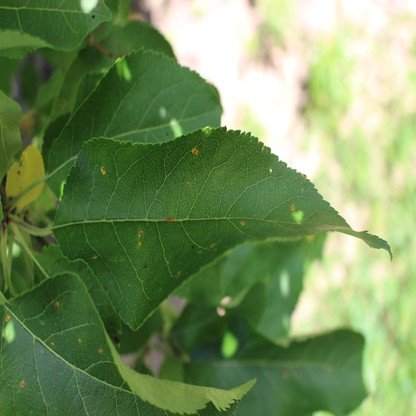rust: (138, 229, 143, 246), (165, 213, 174, 222), (99, 165, 106, 174), (192, 145, 199, 154), (4, 313, 10, 322), (290, 203, 296, 212), (19, 380, 25, 387), (96, 345, 102, 352), (240, 219, 246, 226), (301, 171, 307, 177), (54, 299, 59, 306), (50, 339, 56, 344), (209, 240, 213, 247), (77, 337, 81, 343)
